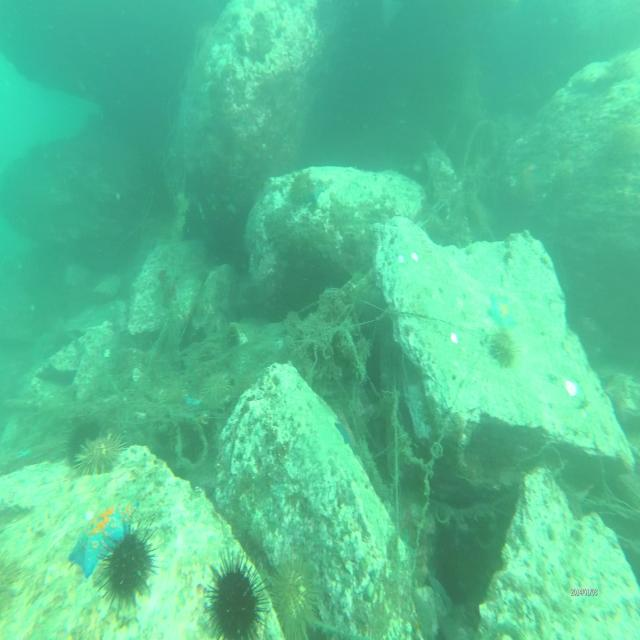echinus: (203, 557, 270, 640), (104, 528, 153, 607), (81, 430, 124, 476), (67, 424, 101, 471), (286, 170, 314, 209), (200, 372, 230, 408), (490, 332, 515, 372)
starfish: (72, 502, 132, 575), (487, 289, 514, 328), (335, 417, 359, 452)
